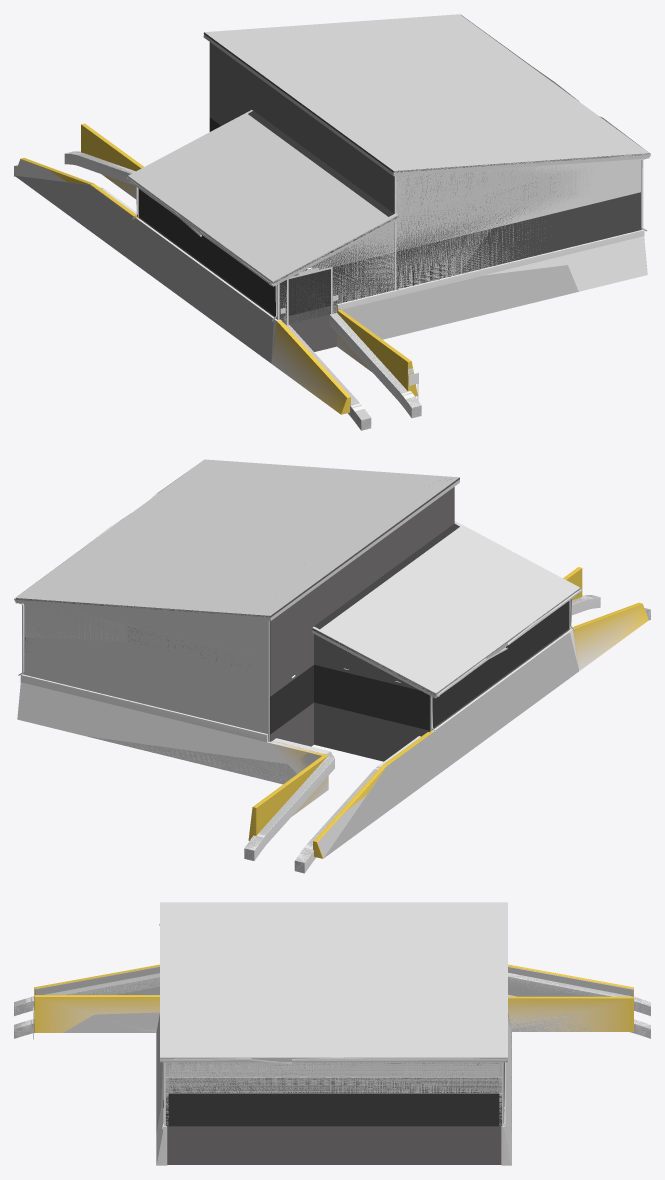
File: waste_transfer_station.dae
3 renders of one model, top to bottom at view 1: azimuth 30°, elevation 25°; view 2: azimuth 150°, elevation 25°; view 3: azimuth 270°, elevation 25°, orthographic. The views are drawn at different scales.
Visible parts, largest first — view 1: Colmesh_waste_transfer_station-1, waste_transfer_station_a55000, waste_transfer_station_a30, waste_transfer_station_a8000, waste_transfer_station_a800, waste_transfer_station_a200; view 2: Colmesh_waste_transfer_station-1, waste_transfer_station_a30, waste_transfer_station_a55000, waste_transfer_station_a8000, waste_transfer_station_a800; view 3: Colmesh_waste_transfer_station-1, waste_transfer_station_a30, waste_transfer_station_a55000, waste_transfer_station_a8000, waste_transfer_station_a800, waste_transfer_station_a200.
Part boxes in pixels (left/top/right/bottom): Colmesh_waste_transfer_station-1: left=14, top=14, right=649, bottom=430; waste_transfer_station_a55000: left=20, top=15, right=650, bottom=430; waste_transfer_station_a30: left=137, top=42, right=555, bottom=351; waste_transfer_station_a8000: left=14, top=124, right=640, bottom=417; waste_transfer_station_a800: left=66, top=18, right=649, bottom=427; waste_transfer_station_a200: left=75, top=152, right=535, bottom=407; Colmesh_waste_transfer_station-1: left=15, top=459, right=650, bottom=873; waste_transfer_station_a30: left=270, top=487, right=569, bottom=761; waste_transfer_station_a55000: left=14, top=477, right=650, bottom=872; waste_transfer_station_a8000: left=17, top=589, right=648, bottom=873; waste_transfer_station_a800: left=15, top=462, right=593, bottom=862; Colmesh_waste_transfer_station-1: left=14, top=902, right=650, bottom=1147; waste_transfer_station_a30: left=166, top=1062, right=501, bottom=1164; waste_transfer_station_a55000: left=14, top=923, right=650, bottom=1165; waste_transfer_station_a8000: left=14, top=973, right=650, bottom=1147; waste_transfer_station_a800: left=23, top=966, right=638, bottom=1130; waste_transfer_station_a200: left=31, top=966, right=631, bottom=1077.
Bounding box in the file's own units: 37.57 × 59.48 × 16.44.
